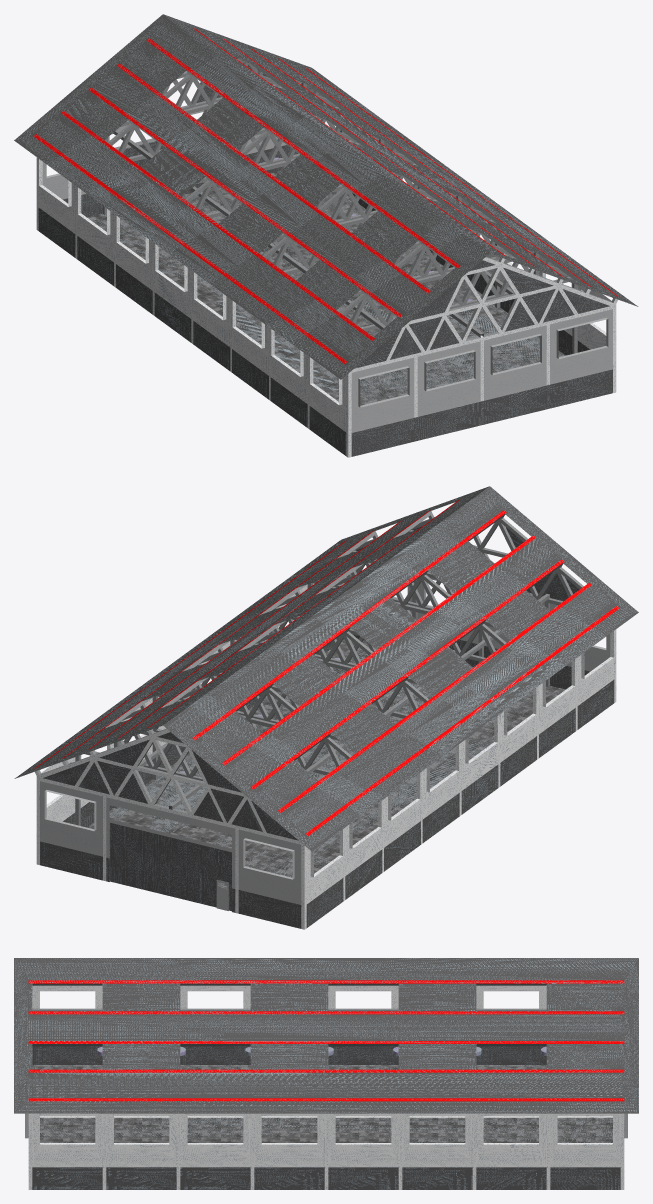
The picture shows the model from 3 angles, top to bottom: view 1: azimuth 30°, elevation 25°; view 2: azimuth 150°, elevation 25°; view 3: azimuth 270°, elevation 25°; orthographic projection. The views are drawn at different scales.
Visible parts, largest first — view 1: SketchUp (×38); view 2: SketchUp (×40); view 3: SketchUp (×40).
Part boxes in pixels (x1,y1,x2,y2): SketchUp (×38): (14,14,638,457); SketchUp (×40): (14,486,638,929); SketchUp (×40): (14,958,638,1189).
Size of the model in its own units: 875 by 1663 by 498.
9 materials, 1 textured.
